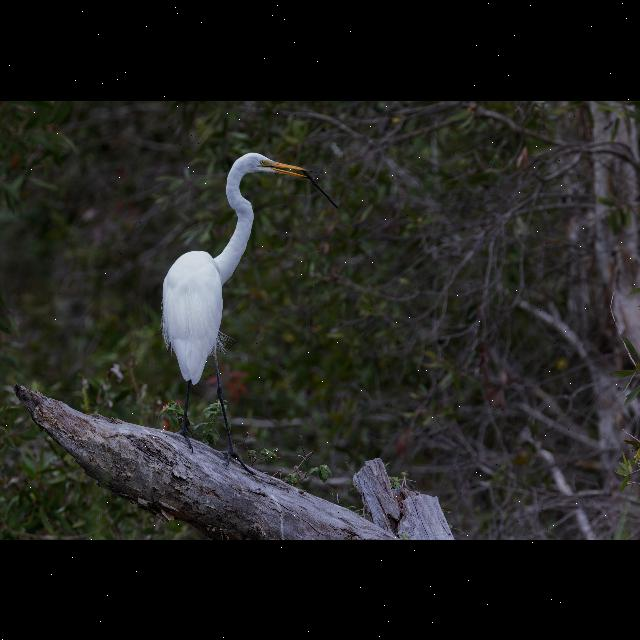egret: (136, 144, 338, 468)
